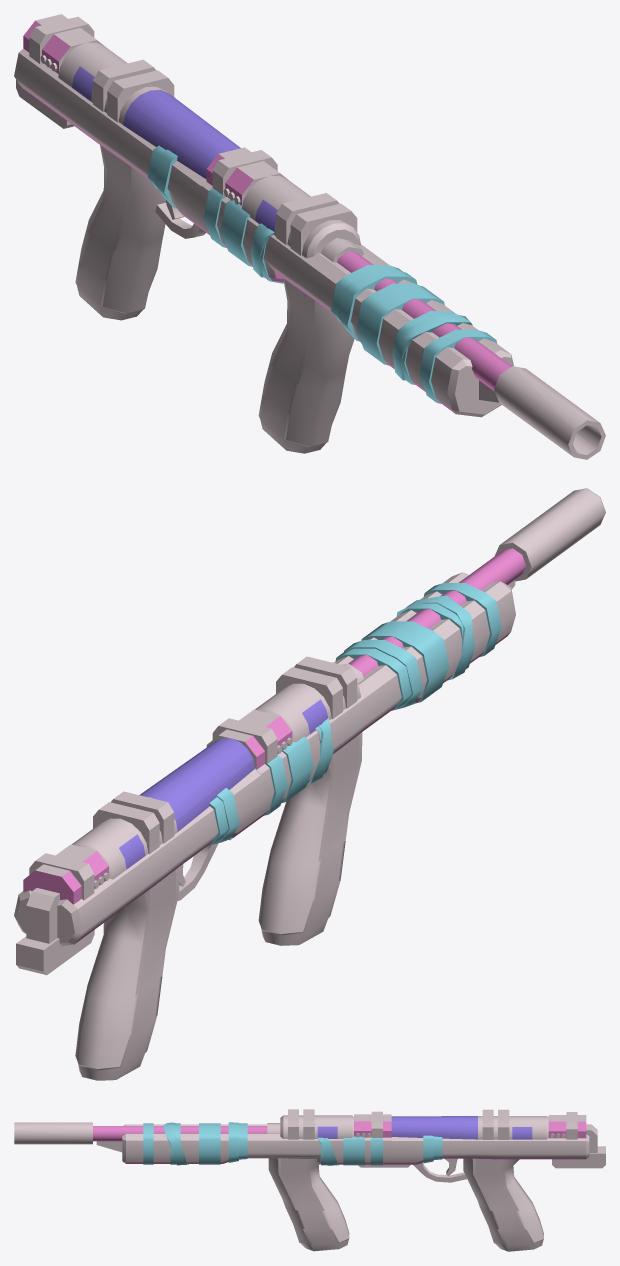
The model's file is Smugglers Rifle.fbx.
3 views of the same model, one above another, from view 1: azimuth 30°, elevation 25°; view 2: azimuth 150°, elevation 25°; view 3: azimuth 270°, elevation 25° (orthographic). The views are drawn at different scales.
Visible parts, largest first — view 1: SmugglersPistol-sharedassets0.assets-1468.001; view 2: SmugglersPistol-sharedassets0.assets-1468.001; view 3: SmugglersPistol-sharedassets0.assets-1468.001.
Part boxes in pixels (box(x1,y1,x2,y2)): SmugglersPistol-sharedassets0.assets-1468.001: box(14, 14, 605, 459); SmugglersPistol-sharedassets0.assets-1468.001: box(14, 488, 605, 1080); SmugglersPistol-sharedassets0.assets-1468.001: box(14, 1109, 605, 1251).
Bounding box in the file's own units: 4.46 × 13.96 × 56.77.
